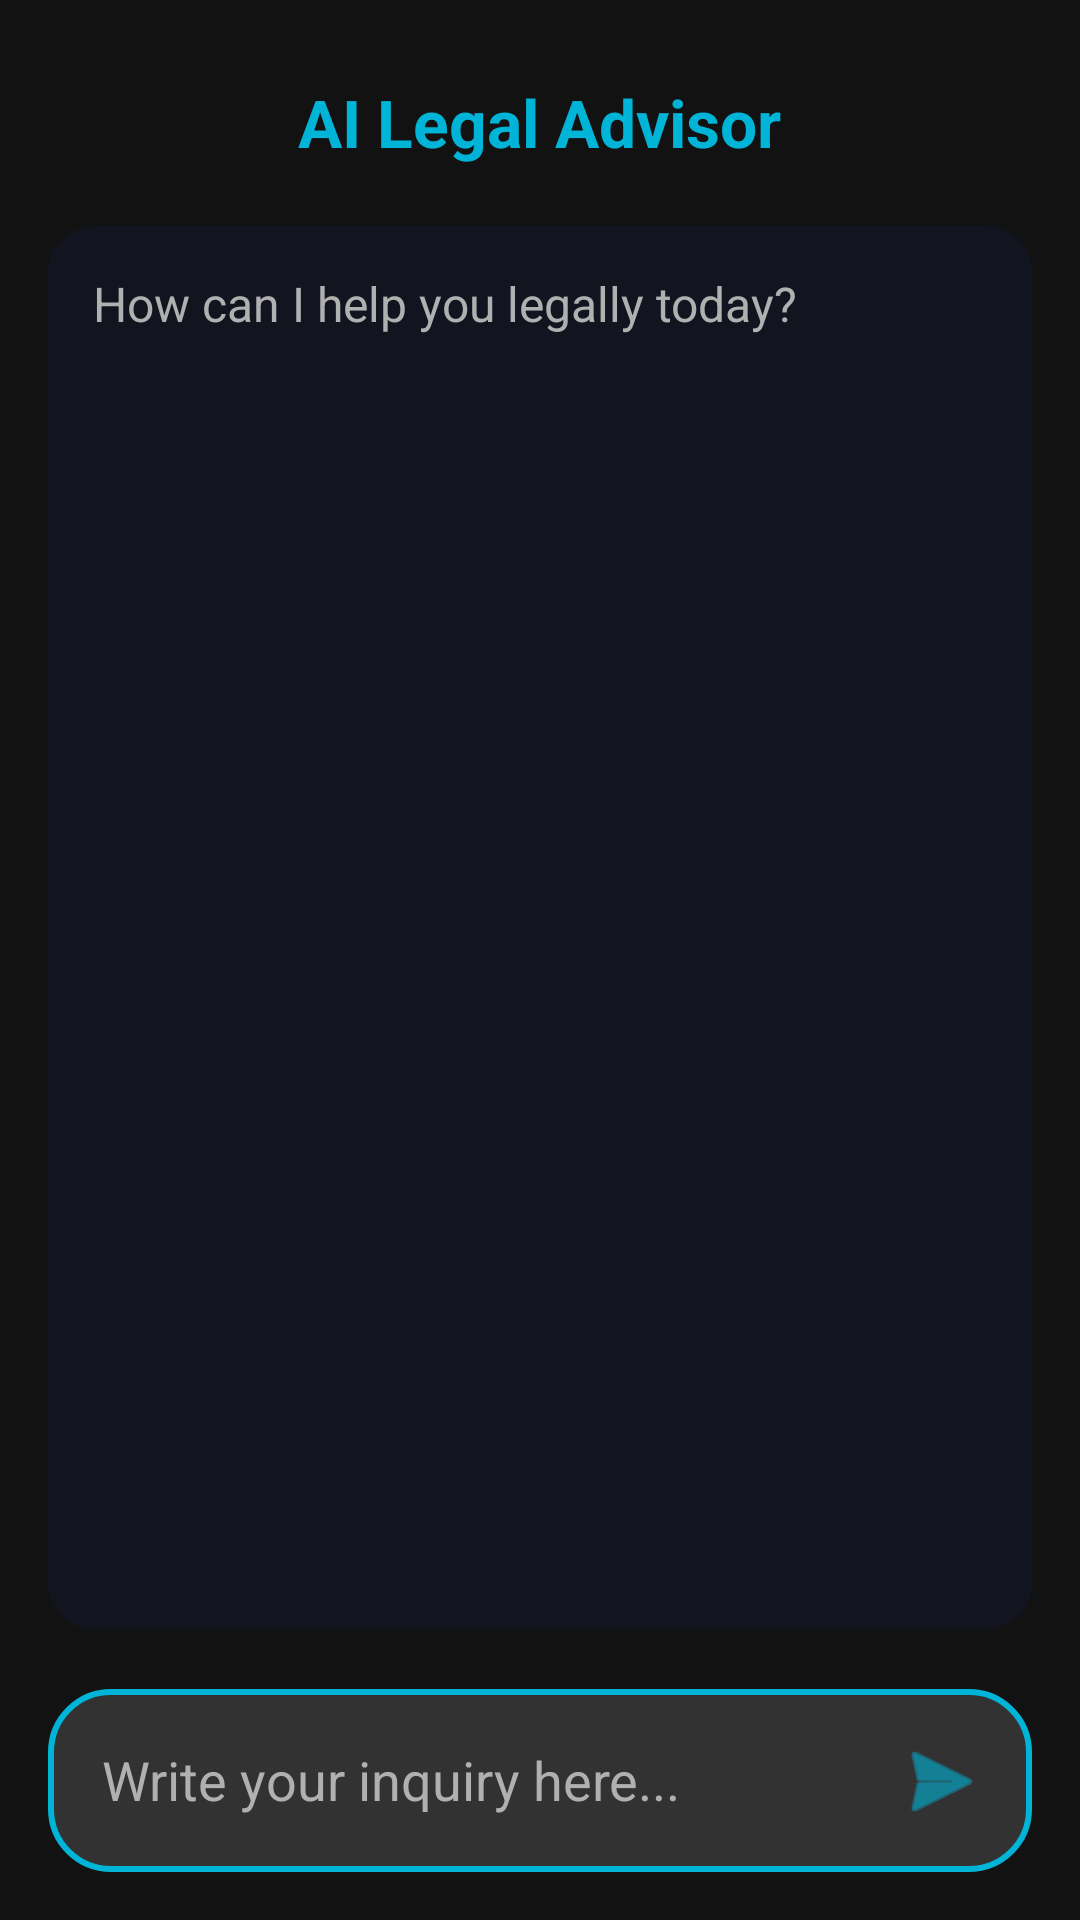

Locate icon controls on the screen. Image size 1080*1920, boxes as (x1, y1, x2, y2).
send: (911, 1751, 972, 1812)
